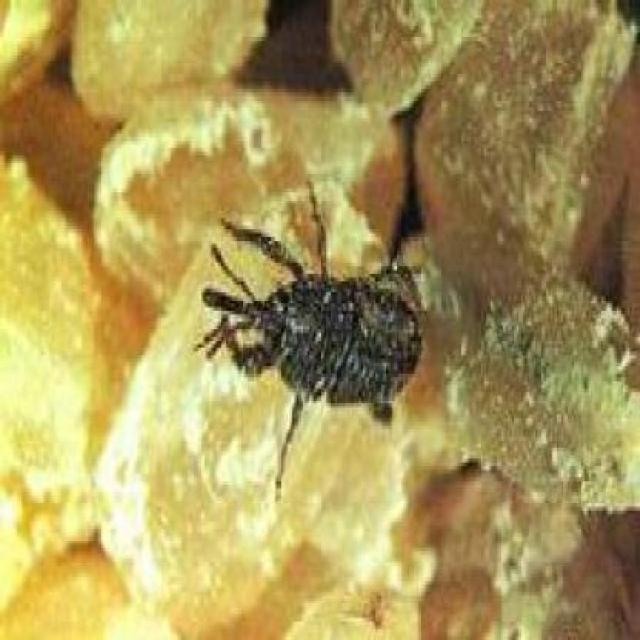rice-bug: (205, 197, 424, 458)
